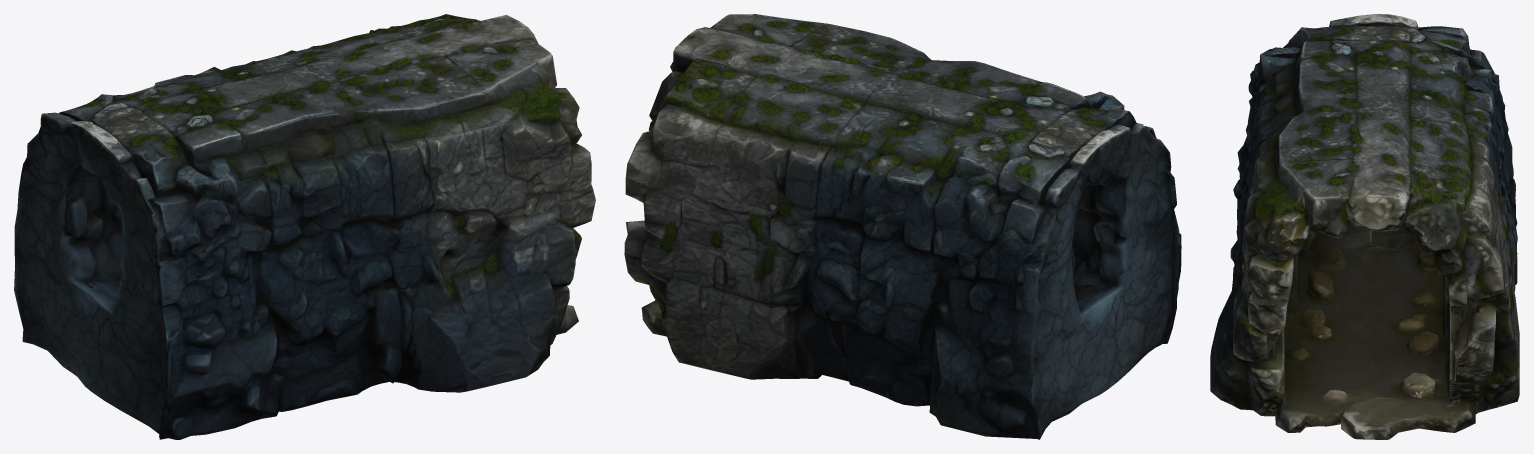
Rendered from cave_tunnel.fbx.
3 renders of one model, left to right at view 1: azimuth 30°, elevation 25°; view 2: azimuth 150°, elevation 25°; view 3: azimuth 270°, elevation 25°, orthographic. The views are drawn at different scales.
Parts seen in each view (by area): view 1: tripo_node_61b6bb21; view 2: tripo_node_61b6bb21; view 3: tripo_node_61b6bb21.
Part boxes in pixels (left/top/right/bottom): tripo_node_61b6bb21: left=14, top=14, right=595, bottom=439; tripo_node_61b6bb21: left=624, top=14, right=1181, bottom=439; tripo_node_61b6bb21: left=1210, top=14, right=1519, bottom=439.
Bounding box in the file's own units: 1 × 0.5673 × 0.666.
1 material, 1 textured.
